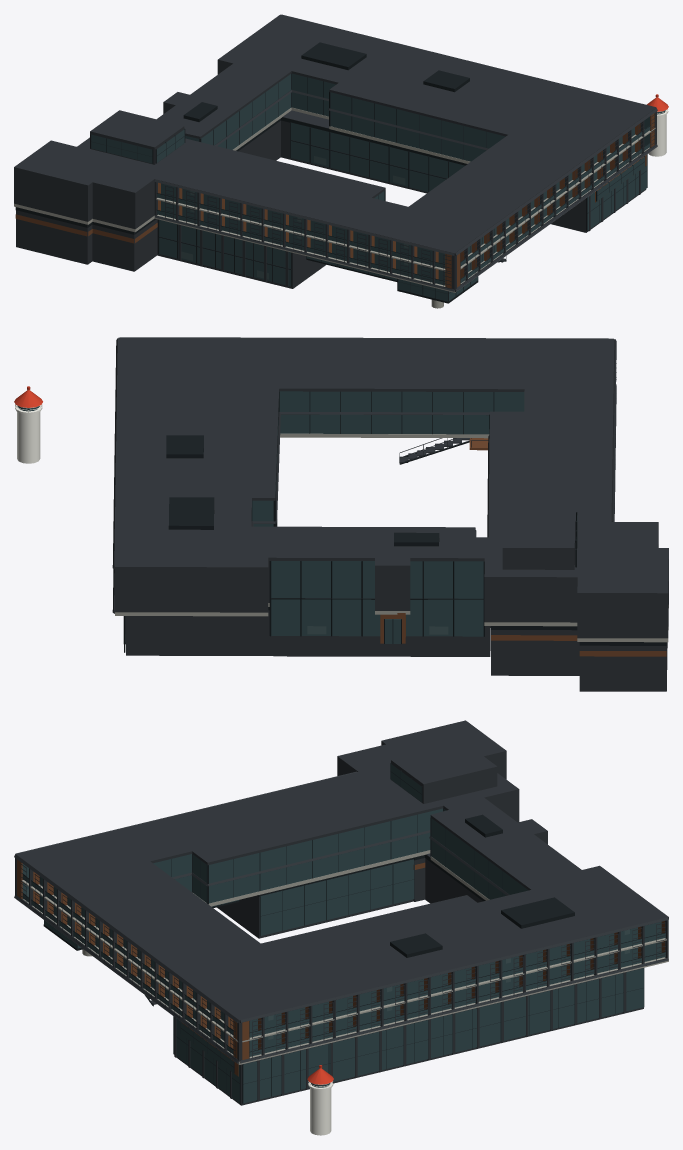
File: farris-bad-far.glb
3 renders of one model, top to bottom at view 1: azimuth 30°, elevation 25°; view 2: azimuth 150°, elevation 25°; view 3: azimuth 270°, elevation 25°, orthographic. The views are drawn at different scales.
Parts seen in each view (by area): view 1: farris-bad-0-stone, farris-bad-0-glass, farris-bad-0-frame, farris-bad-0-concrete, farris-bad-0-wood, farris-bad-0-pale, farris-bad-0-glow; view 2: farris-bad-0-stone, farris-bad-0-glass, farris-bad-0-frame, farris-bad-0-concrete, farris-bad-0-wood, farris-bad-0-pale; view 3: farris-bad-0-stone, farris-bad-0-glass, farris-bad-0-frame, farris-bad-0-concrete, farris-bad-0-wood, farris-bad-0-pale.
Part boxes in pixels (x1=…): farris-bad-0-stone: x1=14, y1=14, x2=657, y2=291; farris-bad-0-glass: x1=91, y1=73, x2=665, y2=301; farris-bad-0-frame: x1=15, y1=42, x2=664, y2=303; farris-bad-0-concrete: x1=14, y1=107, x2=655, y2=308; farris-bad-0-wood: x1=15, y1=113, x2=654, y2=288; farris-bad-0-pale: x1=648, y1=109, x2=668, y2=156; farris-bad-0-glow: x1=181, y1=156, x2=408, y2=279; farris-bad-0-stone: x1=112, y1=337, x2=668, y2=691; farris-bad-0-glass: x1=18, y1=391, x2=577, y2=643; farris-bad-0-frame: x1=17, y1=391, x2=666, y2=652; farris-bad-0-concrete: x1=115, y1=433, x2=668, y2=642; farris-bad-0-wood: x1=380, y1=438, x2=666, y2=656; farris-bad-0-pale: x1=15, y1=404, x2=42, y2=463; farris-bad-0-stone: x1=14, y1=720, x2=668, y2=1105; farris-bad-0-glass: x1=22, y1=764, x2=665, y2=1103; farris-bad-0-frame: x1=21, y1=763, x2=665, y2=1103; farris-bad-0-concrete: x1=22, y1=850, x2=668, y2=1064; farris-bad-0-wood: x1=17, y1=859, x2=664, y2=1076; farris-bad-0-pale: x1=308, y1=1081, x2=333, y2=1135.
Bounding box in the file's own units: 112 × 17.8 × 95.6.
